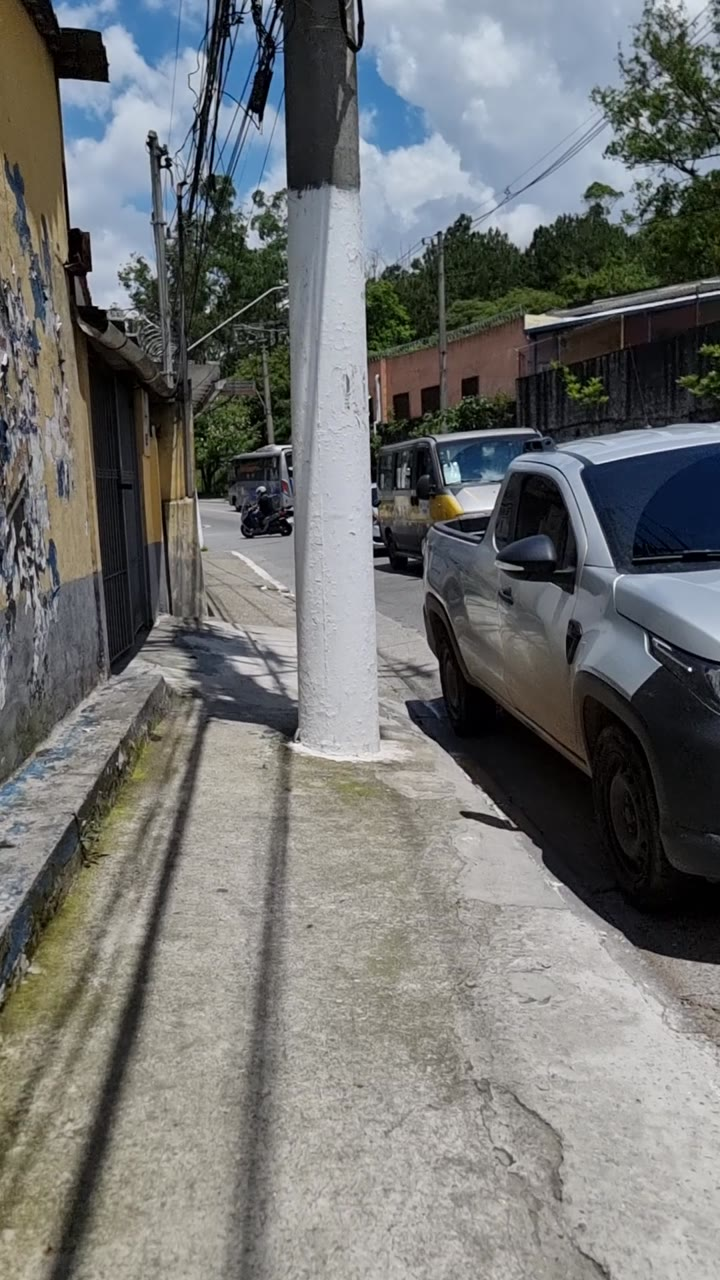obstaculo: (288, 0, 389, 768)
